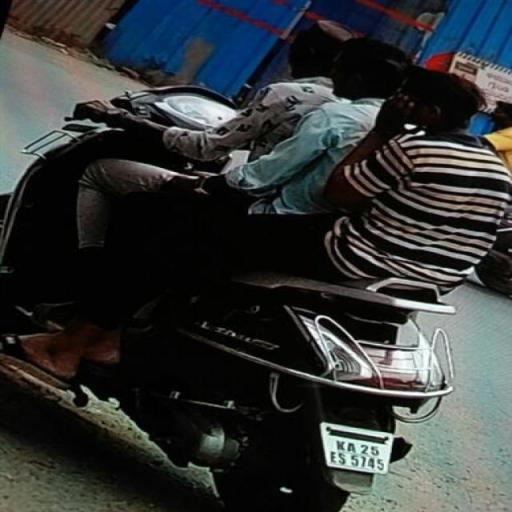tripple riding: (69, 22, 510, 277)
